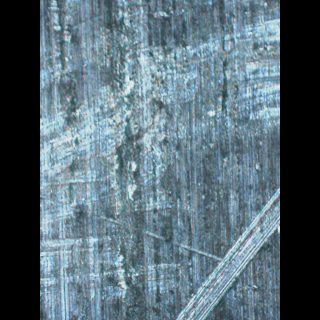d: (39, 5, 279, 194), (172, 184, 279, 320)
